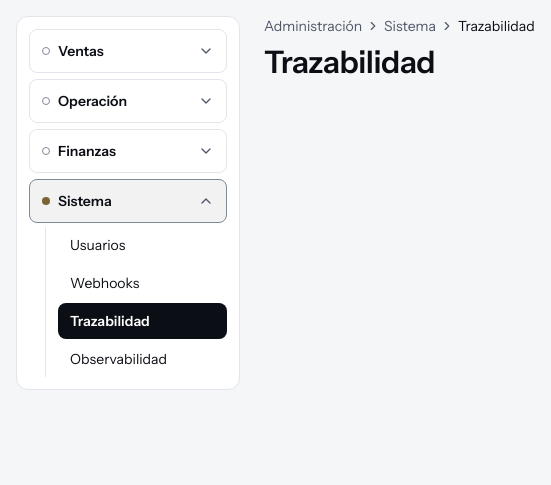
Scenario: AdminLayout navigation › toggles a group with a click and updates aria-expanded
The width and height of the screenshot is (551, 485).
Click the button "Finanzas" at (128, 151), box x1=29 y1=129 x2=227 y2=173
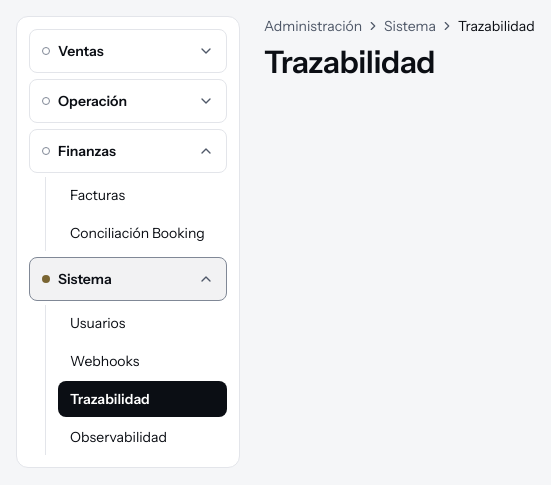
Check: the button "Finanzas" is expanded
Check: the link "Facturas" is shown, box x1=70 y1=186 x2=125 y2=204
Click the button "Finanzas" at (128, 151), box x1=29 y1=129 x2=227 y2=173
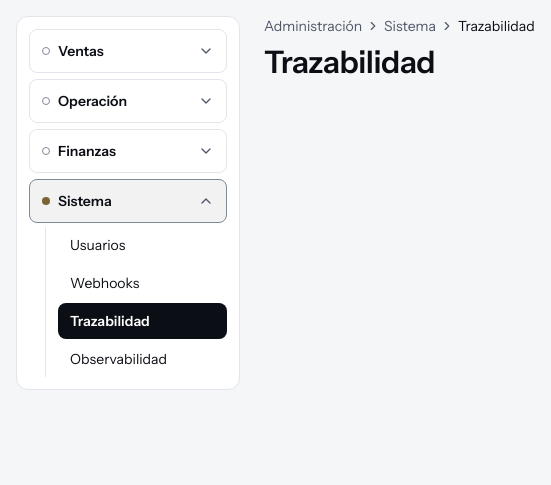
Check: the button "Finanzas" is collapsed, box x1=29 y1=129 x2=227 y2=173
Check: the link "Facturas" is gone
